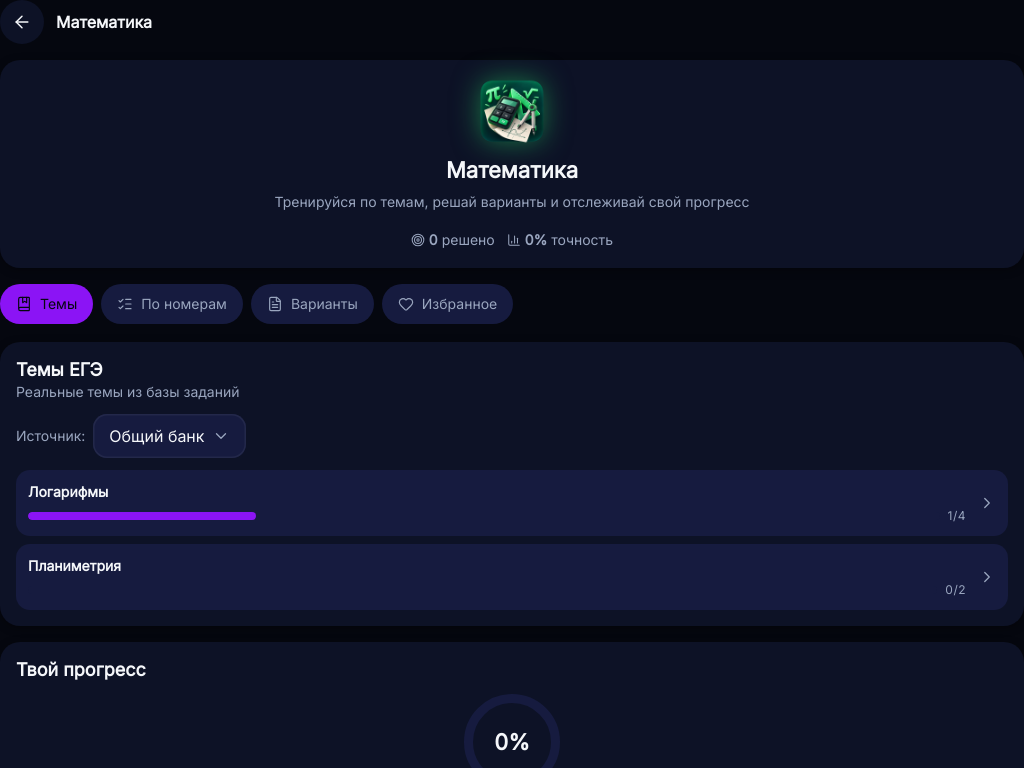
Test: SubjectMobile › drills into a real topic and back returns to the topics list without leaving the page
The width and height of the screenshot is (1024, 768).
Step 1. Click the text "Логарифмы" → point(68, 492), box [28,483,108,500]
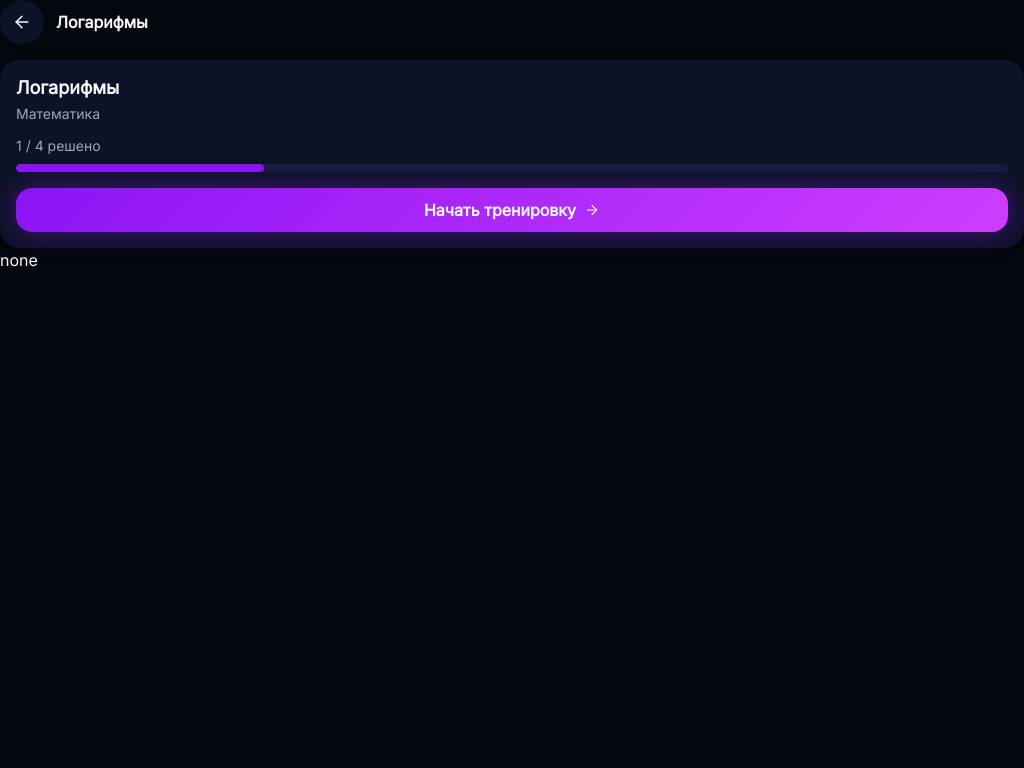
Expected: the button "Начать тренировку" is shown, [16,188,1008,232]
Step 2. Click the button named "Назад" → point(22, 22), box [0,0,44,44]
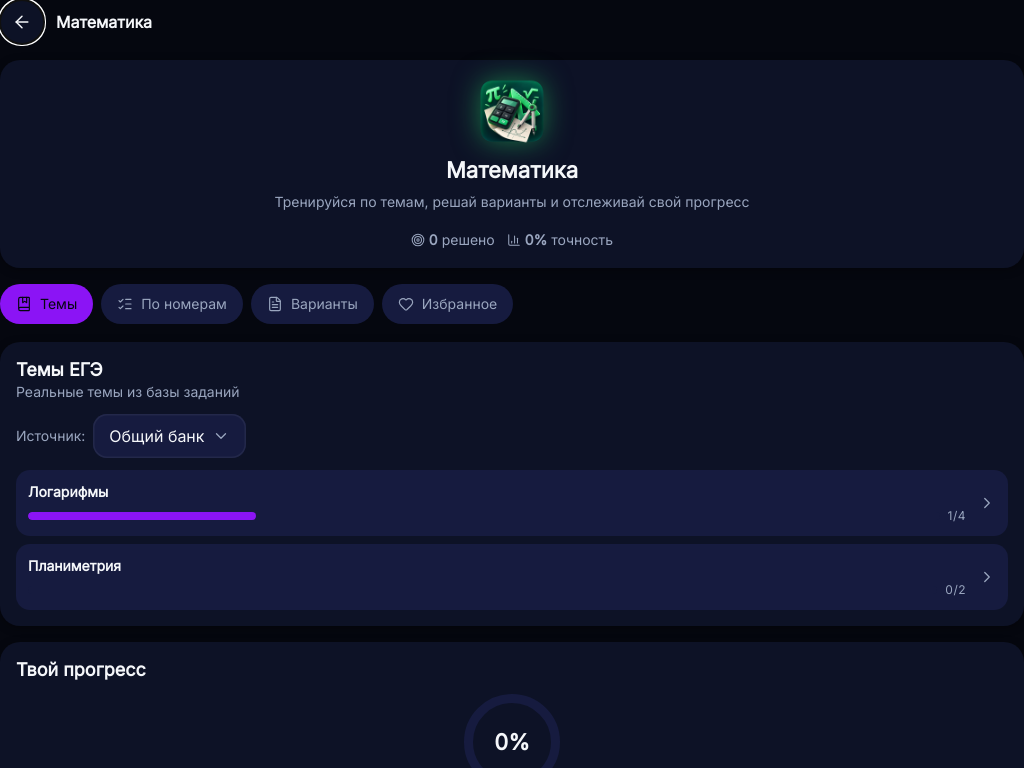
Expected: the text "Планиметрия" is shown, [28,557,121,574]
